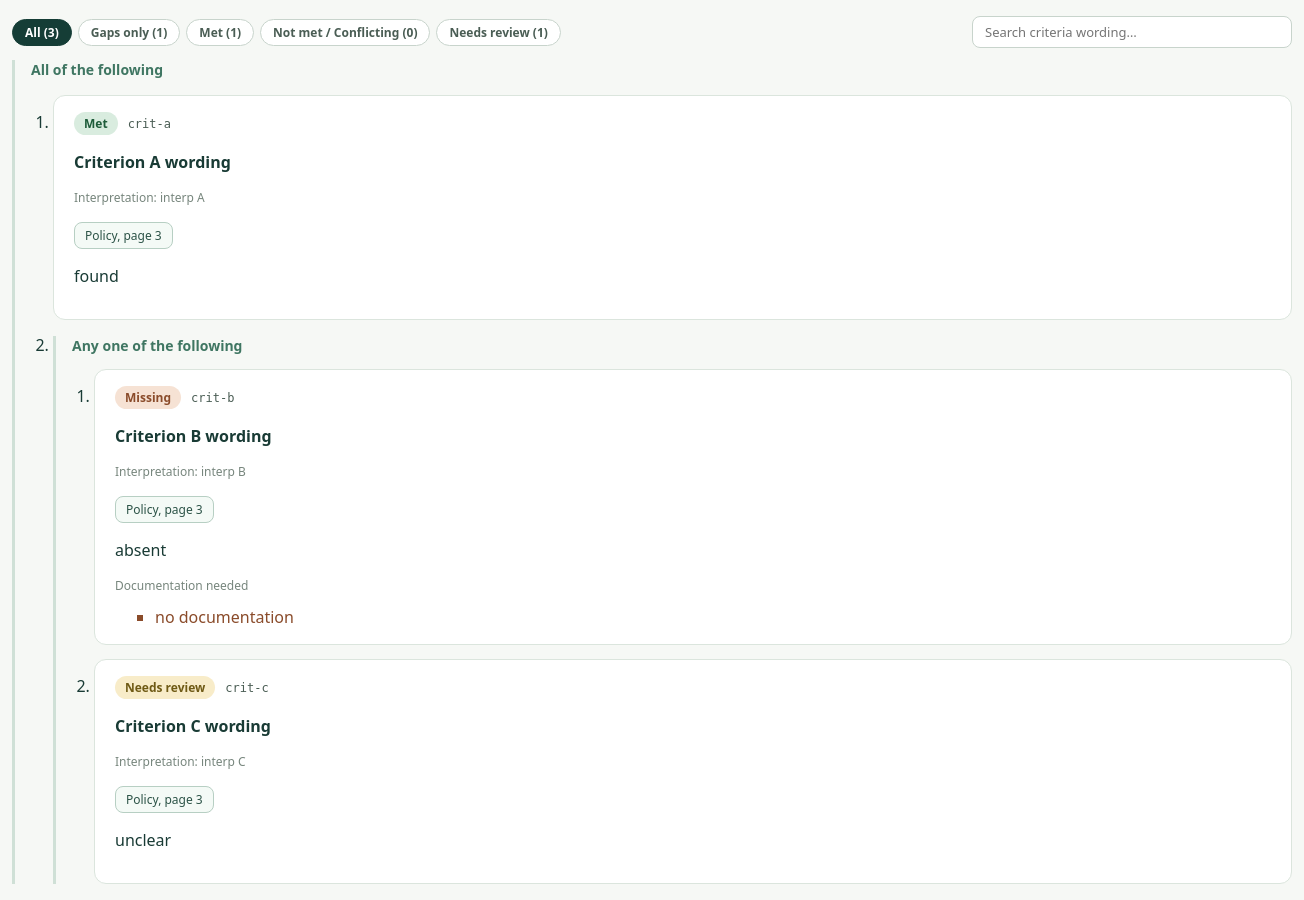
it: Checklist › filters criteria when searching text query
Type "interp B" into the search field labelled "Search criteria wording". click: (1132, 32)
box: [972,16,1292,48]
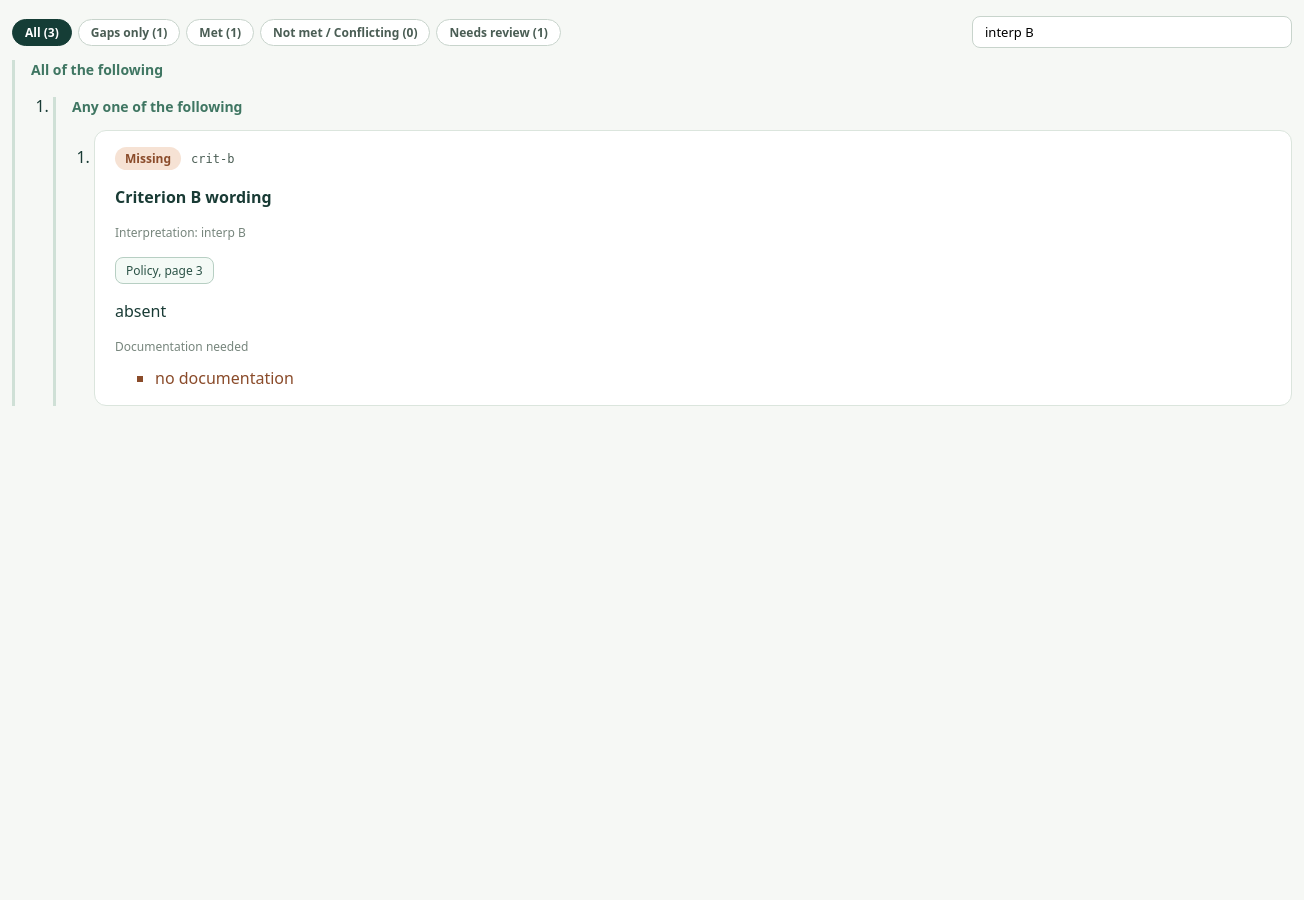
Expected: the element named "Finding: crit-b" is shown, [94,130,1292,406]
Replace the text in the search field named "Search criteria wording" with "nonexistent match". click: (1132, 32)
box: [972,16,1292,48]
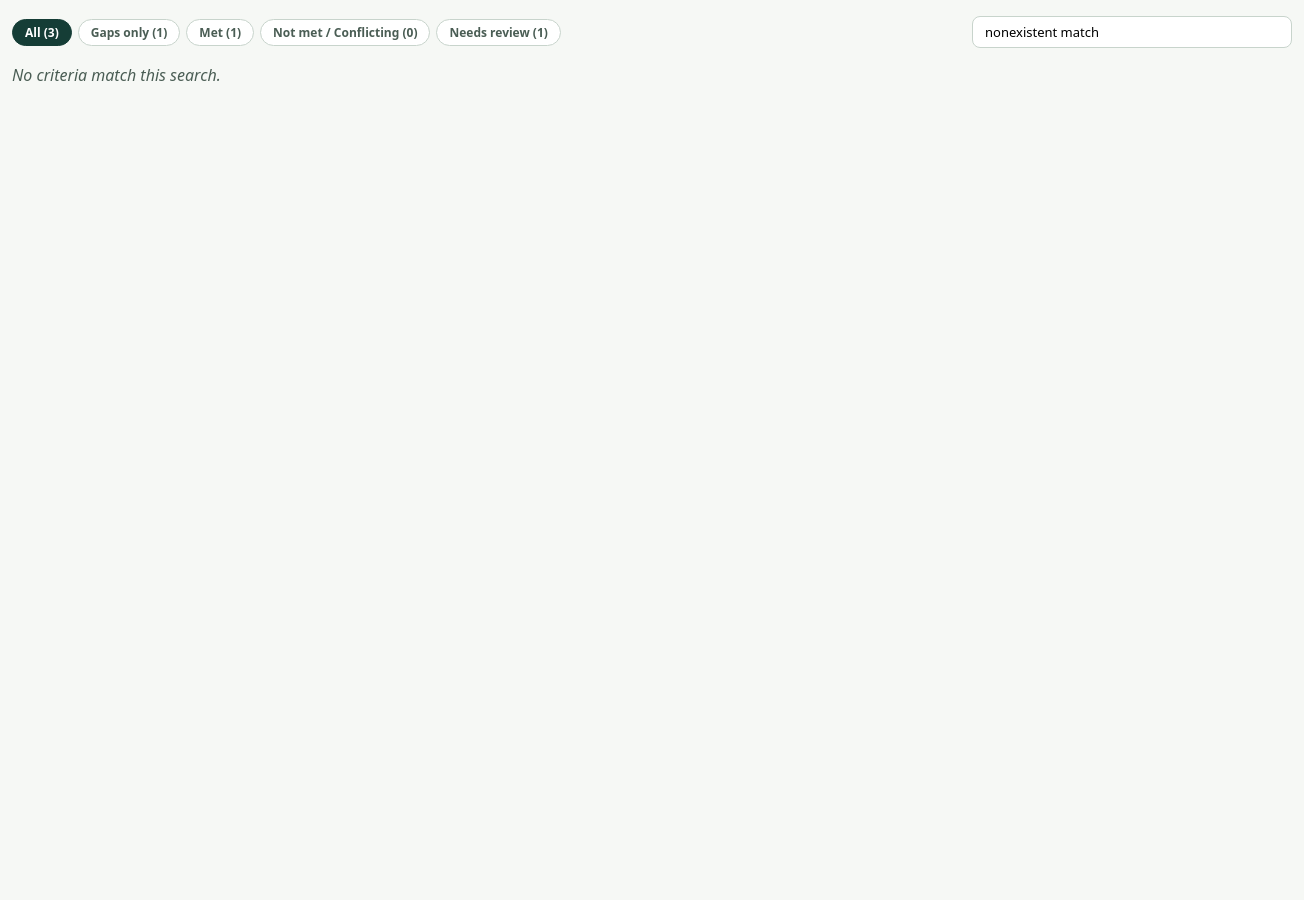
Expected: the text "No criteria match this search." is shown, [12,64,221,86]
